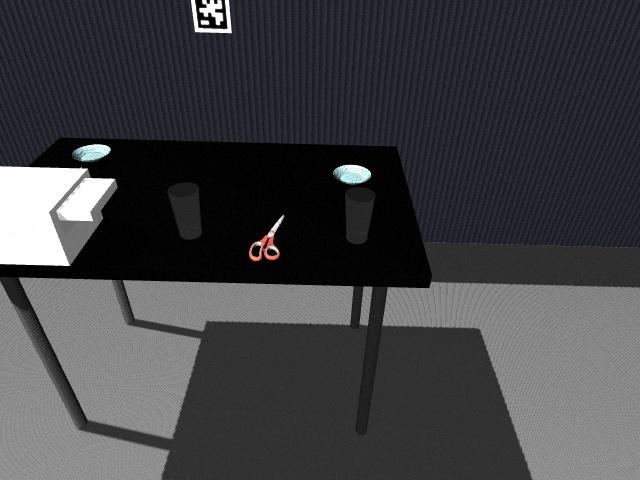cup: (168, 183, 201, 240), (344, 187, 376, 244)
plate: (331, 163, 373, 186), (70, 143, 113, 164)
scissors: (246, 212, 285, 262)
